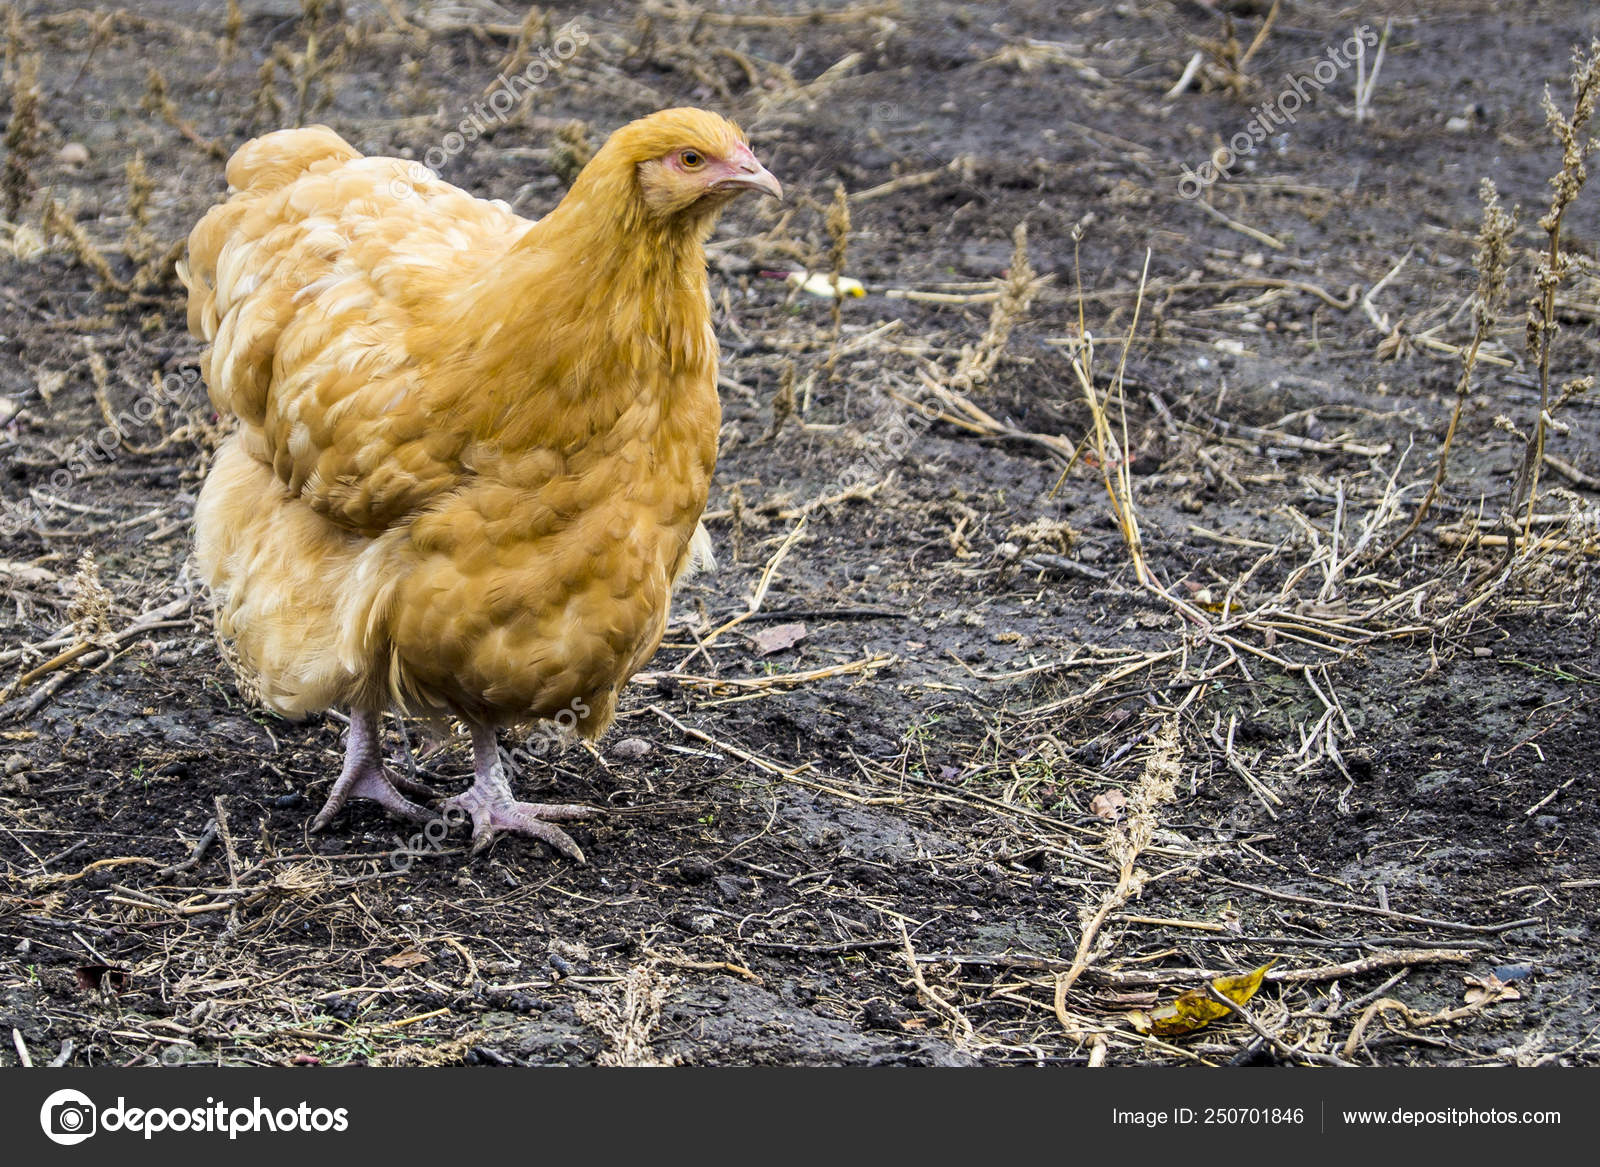buff: (262, 109, 817, 674)
